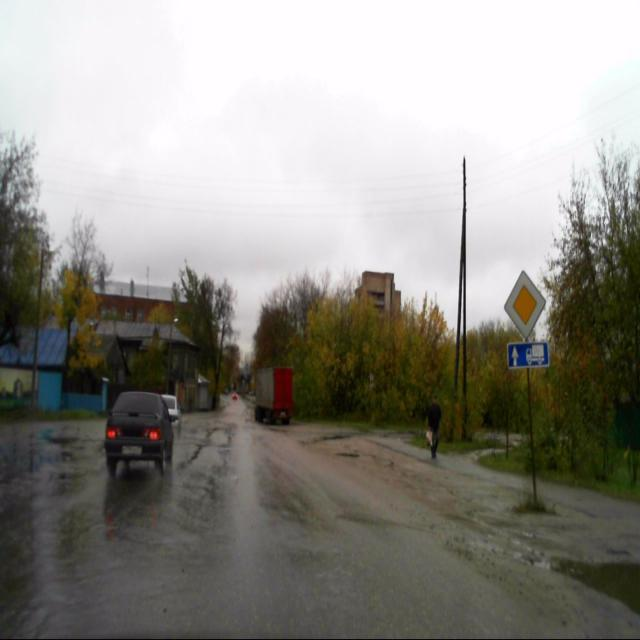road sign: (503, 271, 548, 341), (506, 341, 548, 370)
